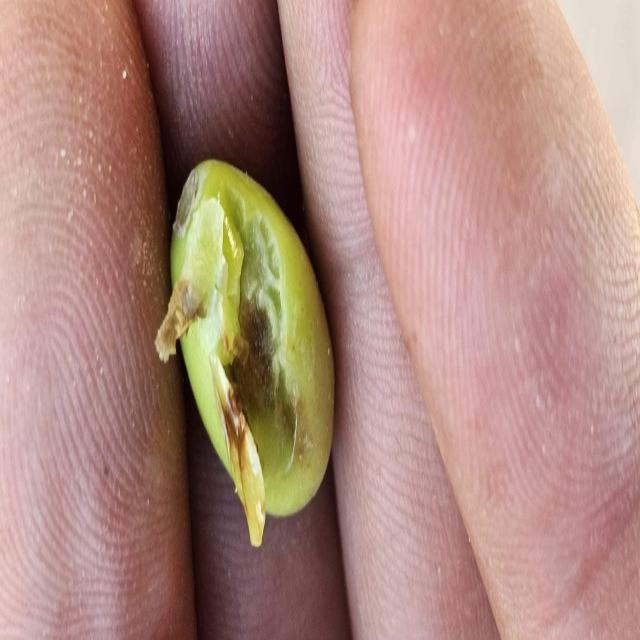Anthracnose: (156, 160, 333, 544)
